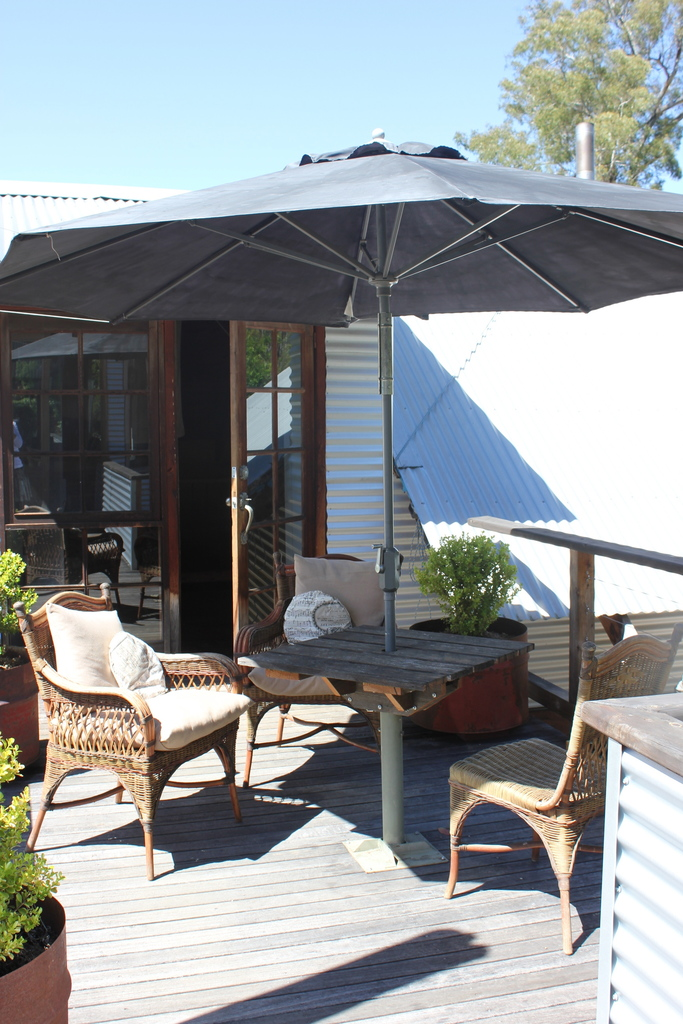Tree: (451, 0, 682, 191)
